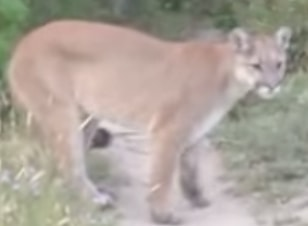Mountain Lion: (3, 10, 296, 216)
